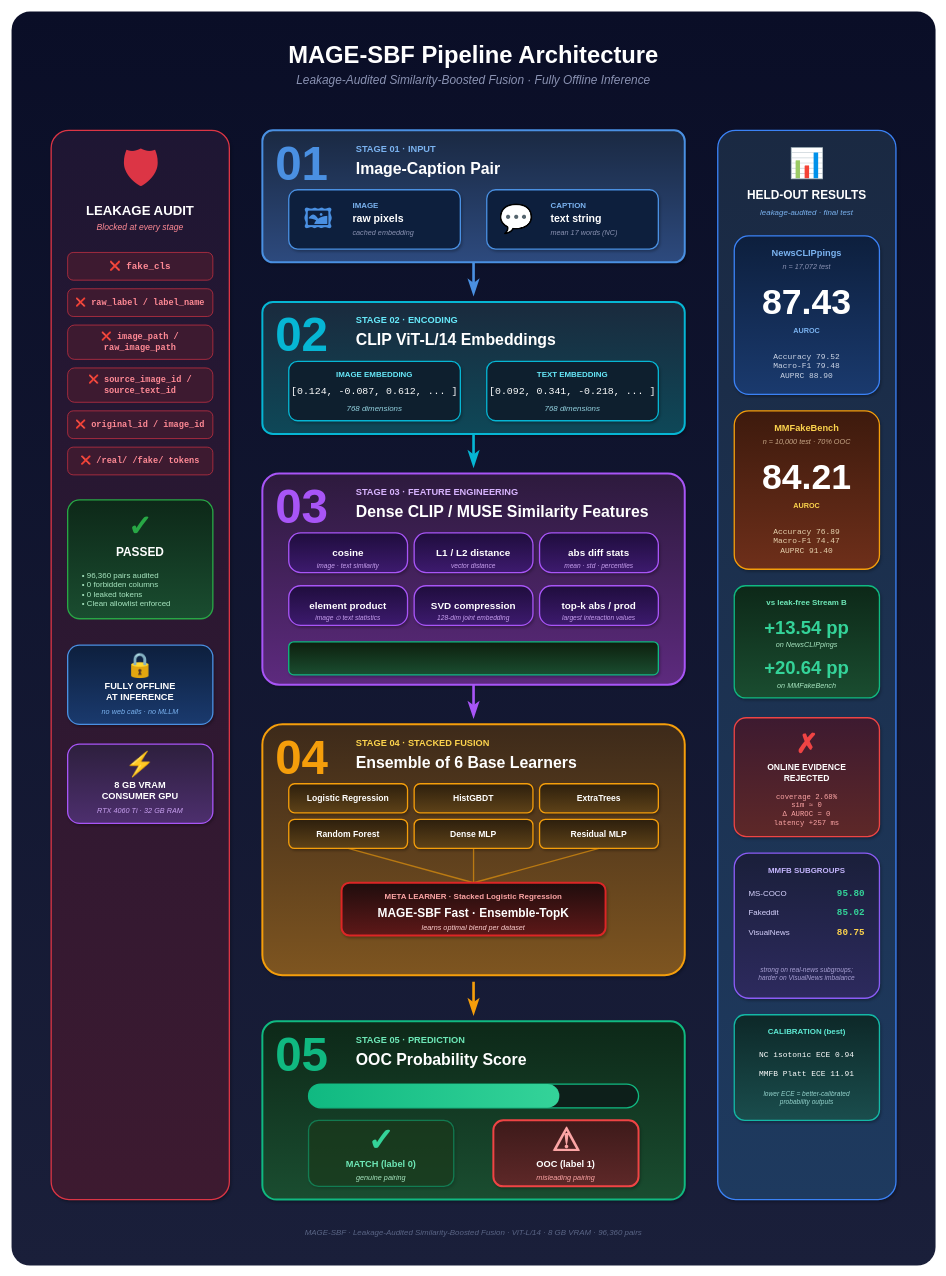
Some shapes in this 946 by 1276 pixel diagram are drawn without their labels. The centre of each missing label's shape, as x and y in pixels:
P(OOC) = 0.87: [433,1095]
UNIFIED FEATURE VECTOR · all leakage-audited: [474,659]
